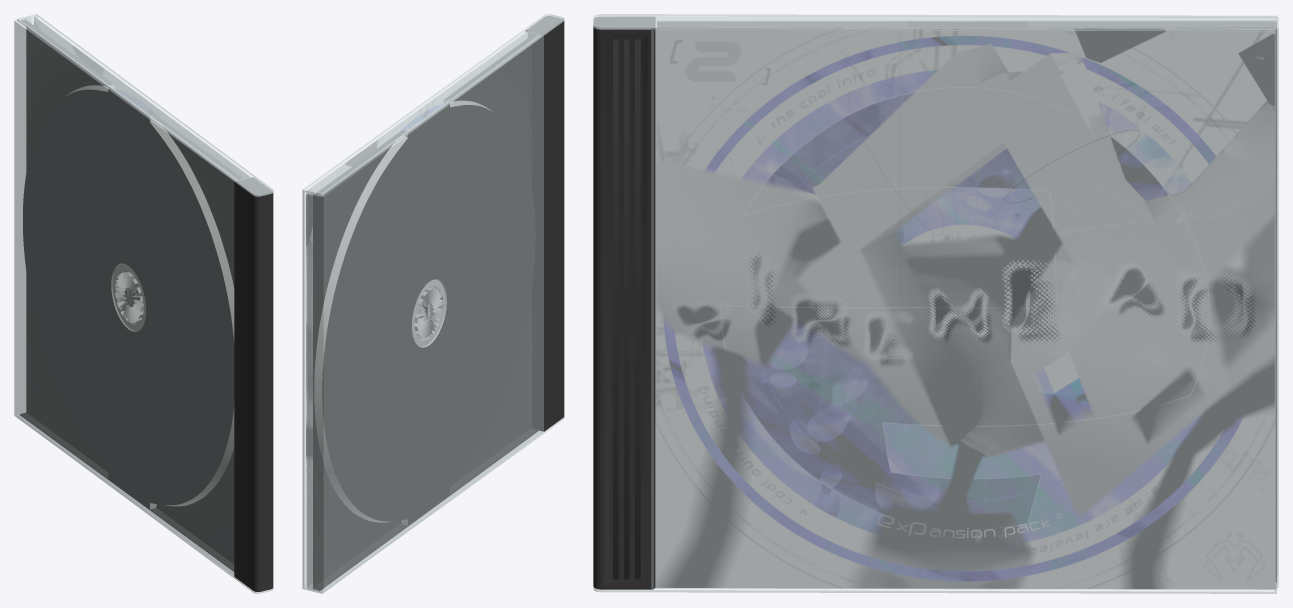
The picture shows the model from 3 angles, left to right: view 1: azimuth 30°, elevation 25°; view 2: azimuth 150°, elevation 25°; view 3: azimuth 270°, elevation 25°; orthographic projection. The views are drawn at different scales.
Parts seen in each view (by area): view 1: Case Back_2, Case Front_0, CD_1; view 2: Case Back_2, Case Front_0, CD_1; view 3: Case Front_0, Case Back_2.
Boxes of the visible parts, left/top/right/bottom form: Case Back_2: left=14, top=17, right=273, bottom=591; Case Front_0: left=17, top=14, right=273, bottom=593; CD_1: left=112, top=264, right=146, bottom=330; Case Back_2: left=307, top=16, right=564, bottom=592; Case Front_0: left=302, top=14, right=564, bottom=593; CD_1: left=412, top=279, right=445, bottom=346; Case Front_0: left=593, top=14, right=1277, bottom=593; Case Back_2: left=593, top=16, right=1278, bottom=589.
Bounding box in the file's own units: 0.116 × 2 × 2.2.
8 materials, 3 textured.
